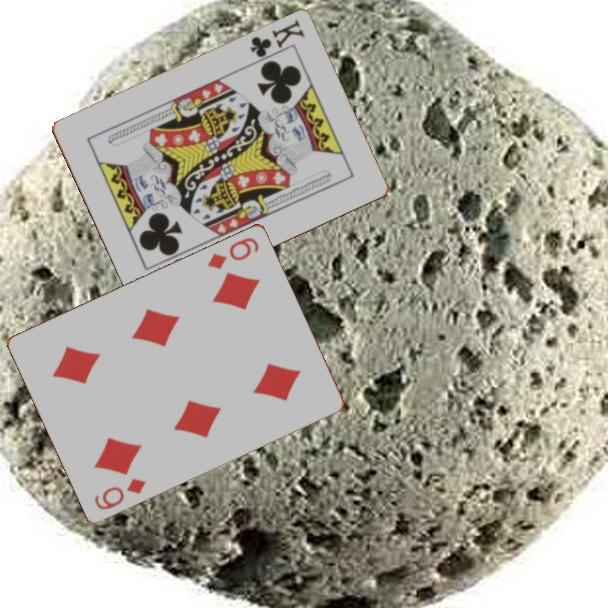c13: (246, 16, 308, 61)
d06: (204, 233, 262, 272), (91, 474, 149, 512)
